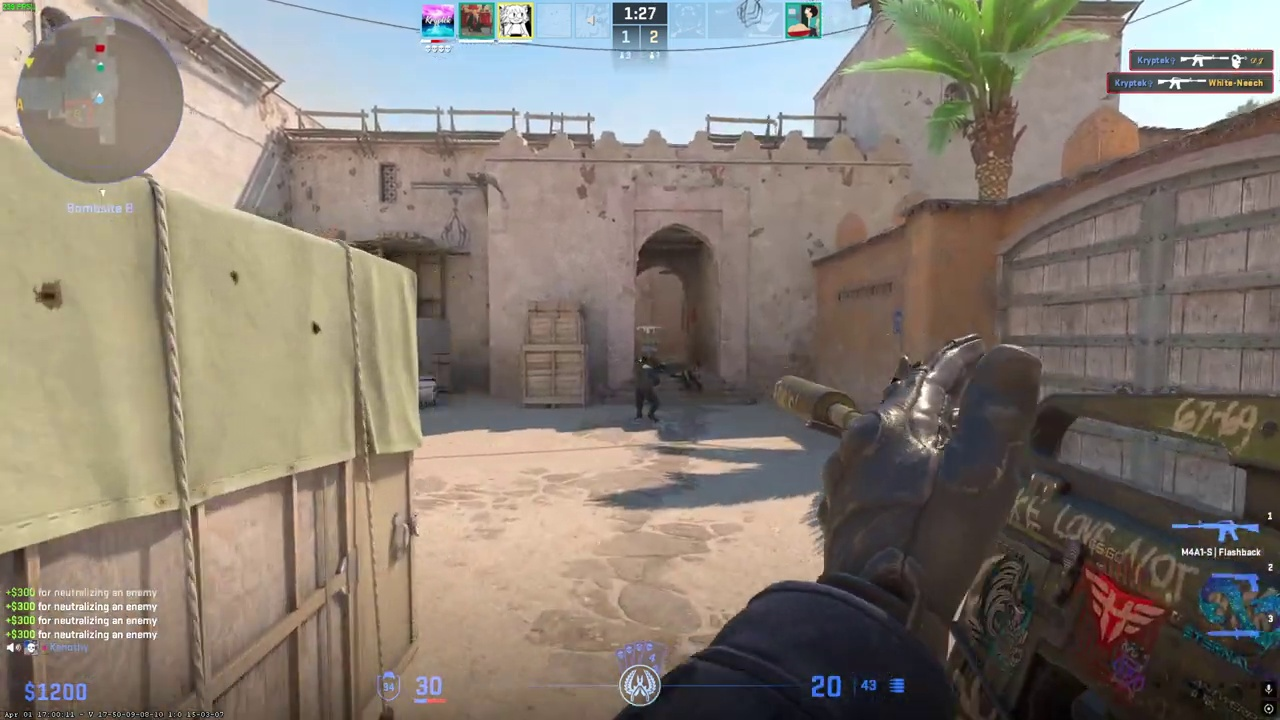CT: (634, 361, 661, 421)
